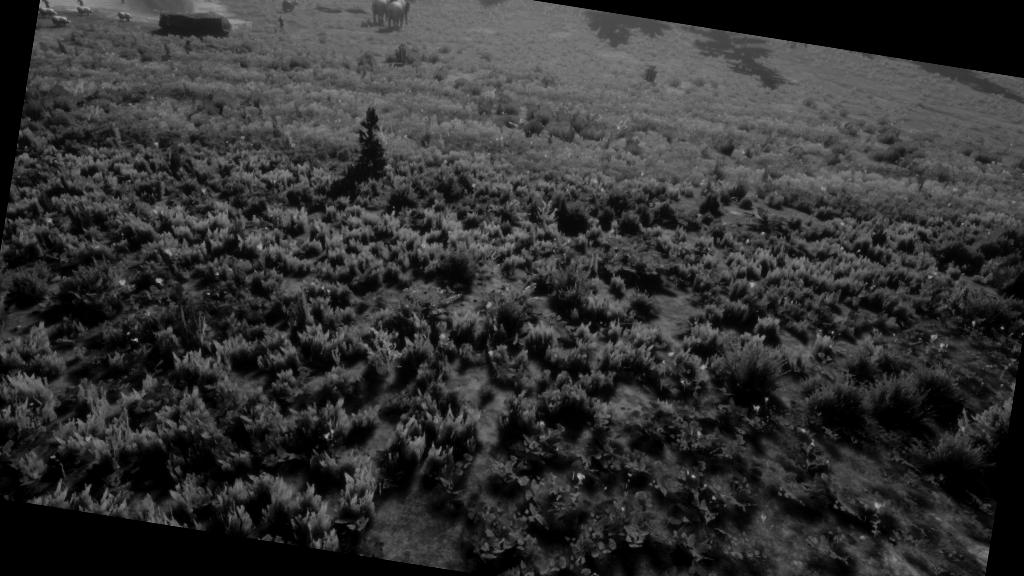Fire: (116, 0, 200, 23)
elephant: (383, 0, 413, 32), (367, 0, 395, 31)
hippopotamus: (279, 0, 300, 14)
human: (274, 13, 288, 32), (74, 0, 87, 9), (40, 0, 53, 9), (113, 0, 128, 7)
lion: (204, 0, 220, 4)
pig: (114, 8, 135, 24), (73, 3, 95, 18), (37, 5, 58, 20), (49, 14, 72, 26)
smoke: (121, 0, 199, 21)
